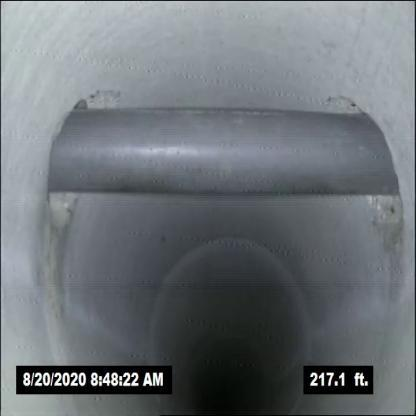utits: (34, 69, 408, 247)
